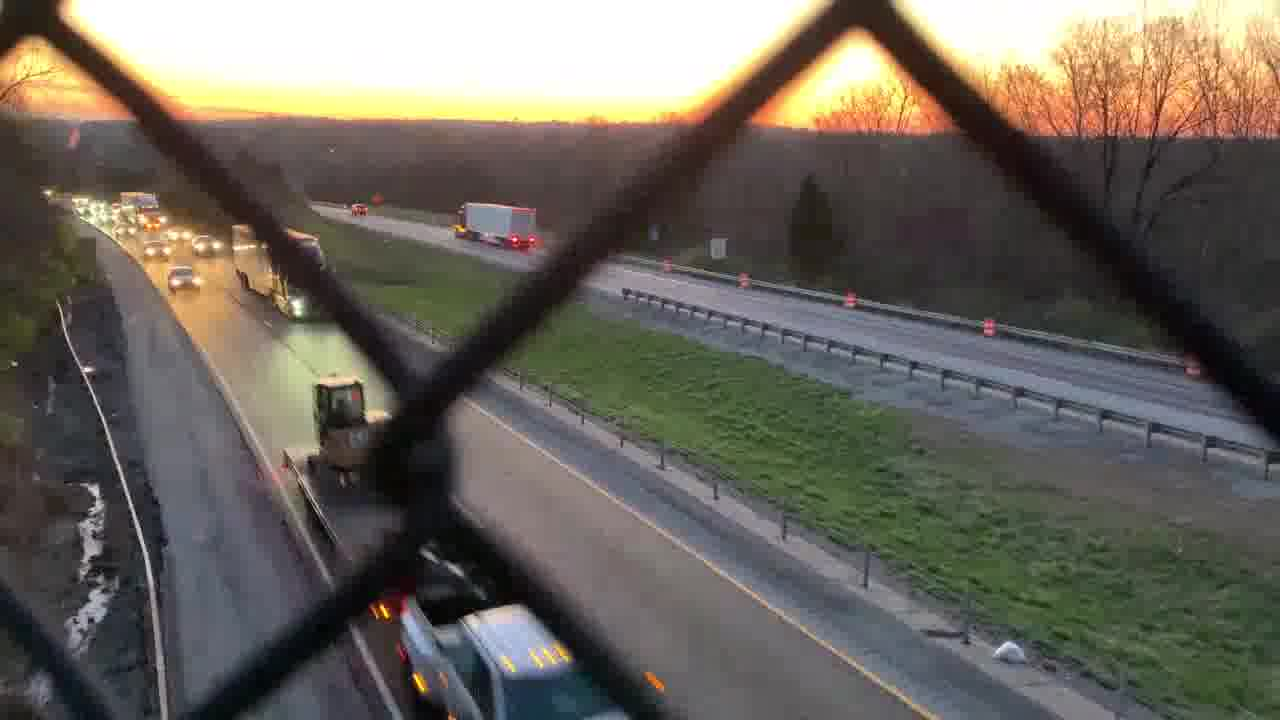heavyTruck: (277, 366, 662, 720), (232, 224, 340, 321), (451, 196, 536, 250)
